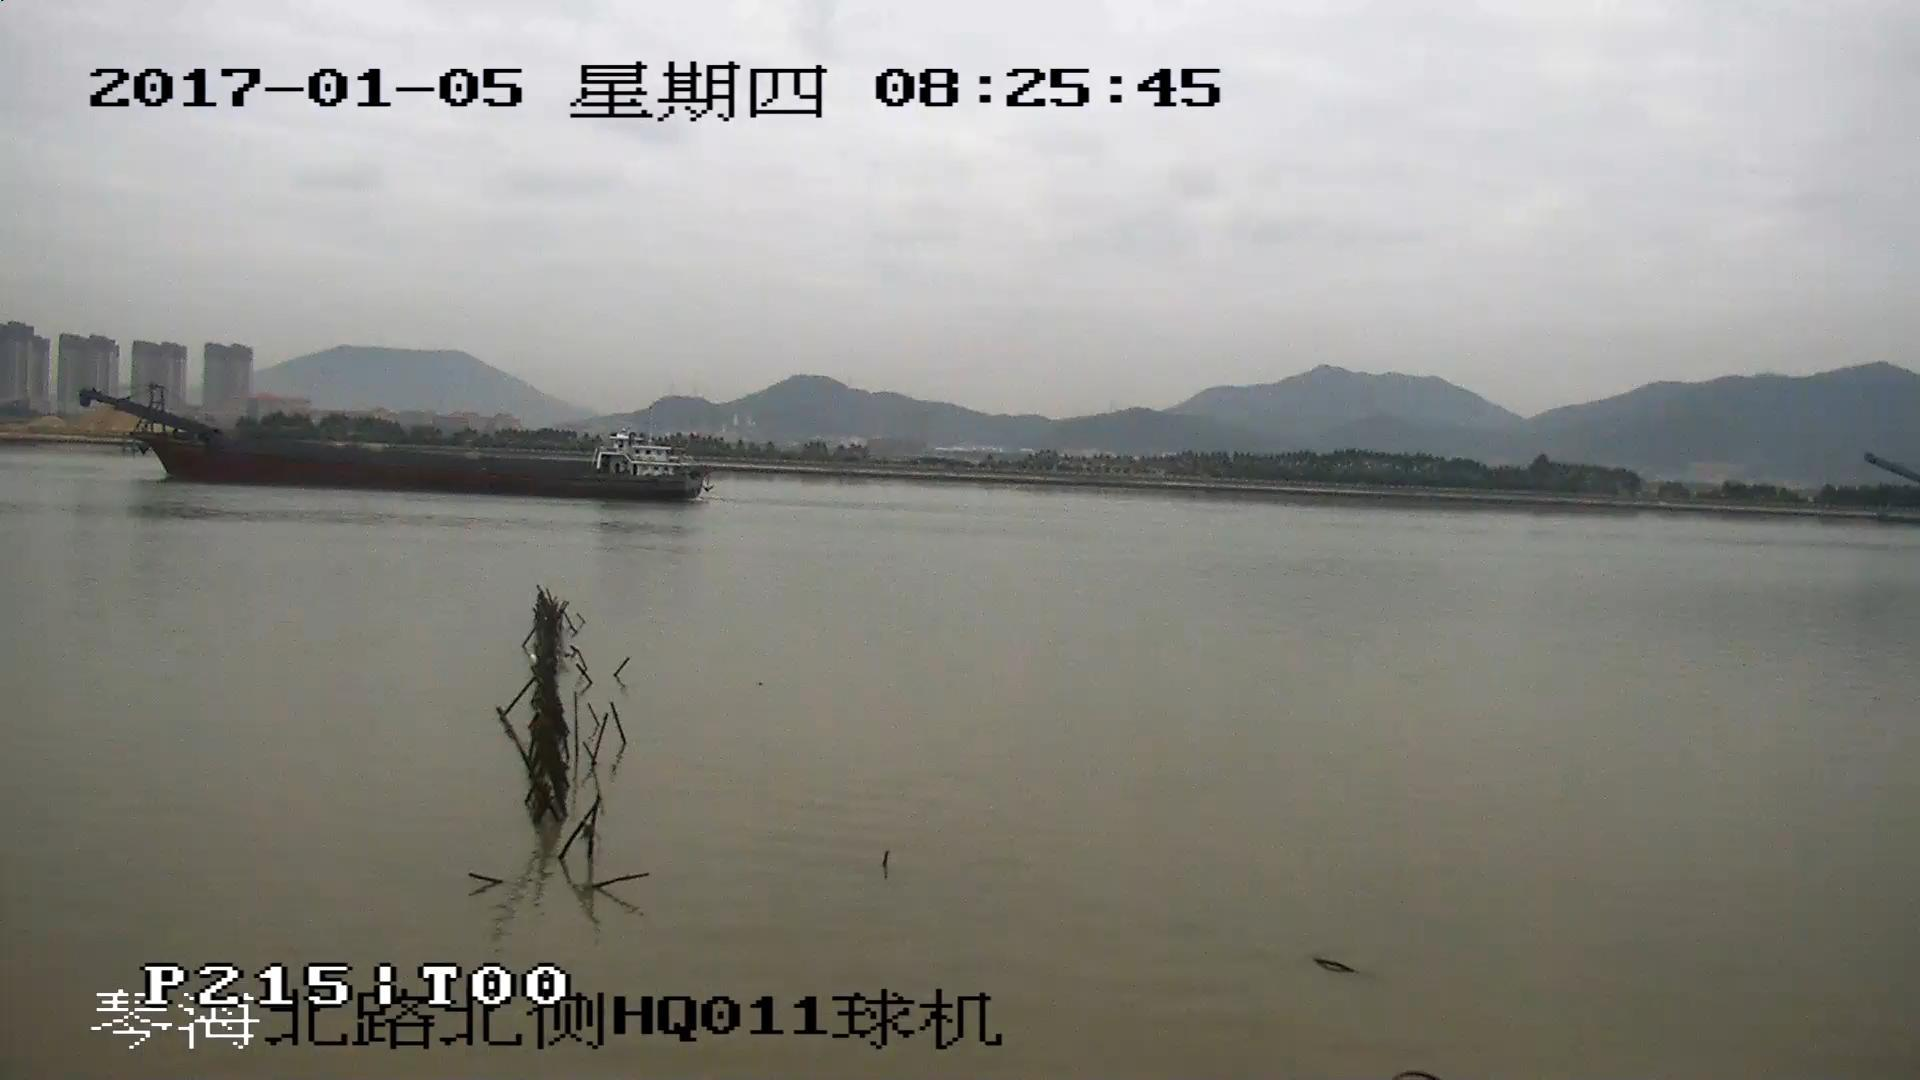Ship: (83, 392, 708, 502)
